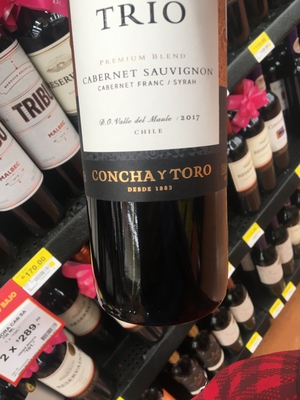trio cabernet sauvignon: (58, 1, 253, 312)
